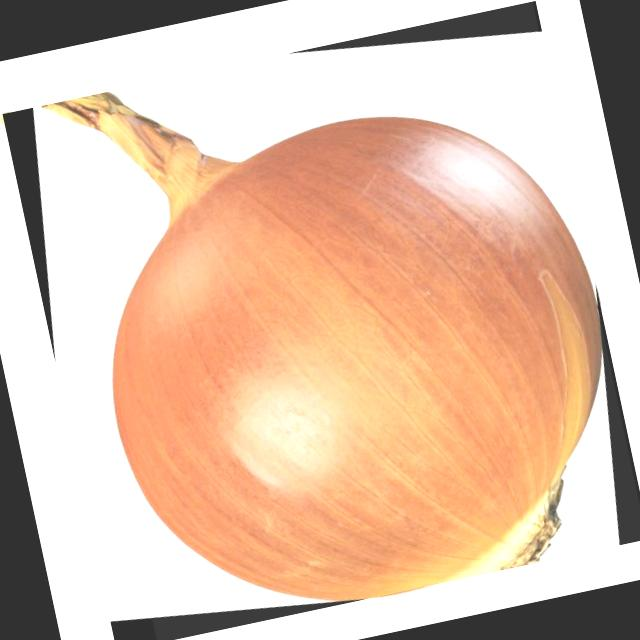healthy: (43, 91, 602, 598)
